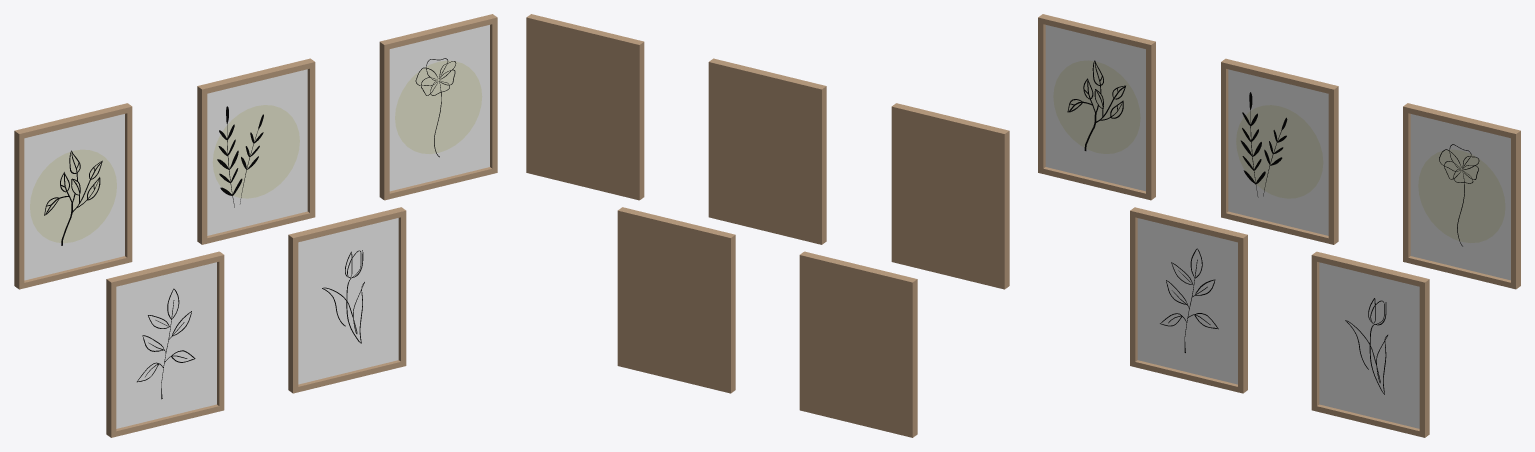
File: quadri1.glb
The picture shows the model from 3 angles, left to right: view 1: azimuth 30°, elevation 25°; view 2: azimuth 150°, elevation 25°; view 3: azimuth 330°, elevation 25°; orthographic projection.
Visible parts, largest first — view 1: Art9.001, Art1.001, Art5.001, Art7.001, Art3.001; view 2: Art9.001, Art1.001, Art5.001, Art7.001, Art3.001; view 3: Art9.001, Art7.001, Art1.001, Art3.001, Art5.001.
Boxes of the visible parts, x1,y1,x2,y2 form: Art9.001: [288, 207, 406, 393]; Art1.001: [14, 103, 132, 289]; Art5.001: [379, 14, 497, 200]; Art7.001: [106, 251, 224, 437]; Art3.001: [197, 58, 315, 244]; Art9.001: [617, 207, 735, 393]; Art1.001: [891, 103, 1009, 289]; Art5.001: [526, 14, 644, 200]; Art7.001: [799, 251, 917, 437]; Art3.001: [708, 58, 826, 244]; Art9.001: [1311, 251, 1429, 437]; Art7.001: [1130, 207, 1247, 393]; Art1.001: [1038, 14, 1155, 200]; Art3.001: [1221, 58, 1338, 244]; Art5.001: [1403, 103, 1520, 289].
Bounding box in the file's own units: 4.73 × 3.08 × 0.0816.
